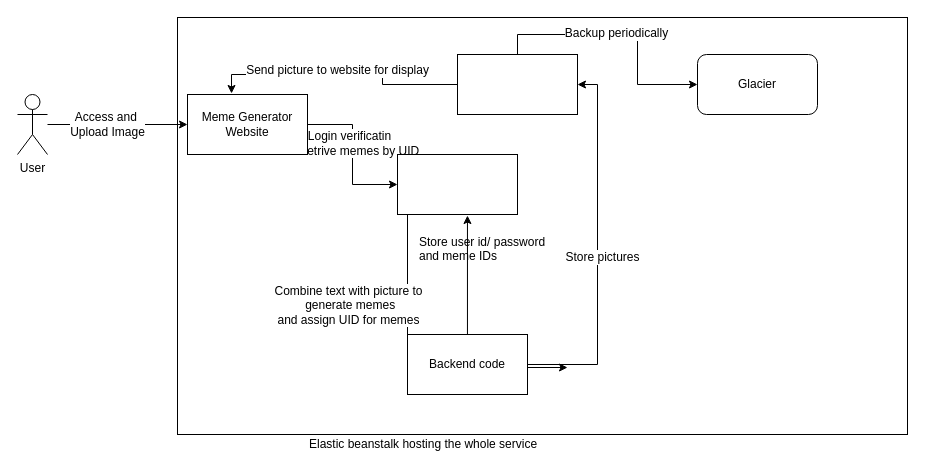
This 925x472 diagram has some shape labels left out. Here are the shapes that lost their labels. From the top down, the centre of each, then its label:
pixel 517 84: S3 Bucket
pixel 457 184: Dynamodb Table
